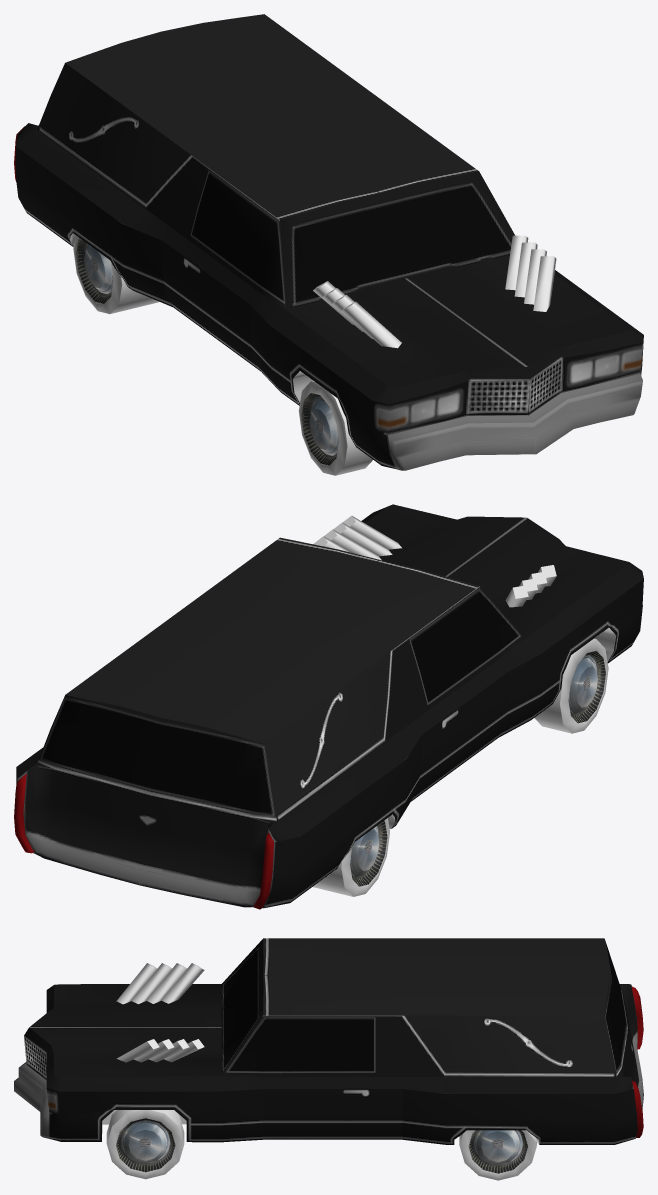
File: Hearse.fbx
3 views of the same model, one above another, from view 1: azimuth 30°, elevation 25°; view 2: azimuth 150°, elevation 25°; view 3: azimuth 270°, elevation 25° (orthographic). The views are drawn at different scales.
Visible parts, largest first — view 1: model_0, model_3, model_1, model_2; view 2: model_0, model_1, model_2, model_3; view 3: model_0, model_1, model_3, model_2.
Boxes of the visible parts, x1,y1,x2,y2 form: model_0: [14, 14, 643, 470]; model_3: [313, 235, 556, 348]; model_1: [76, 238, 338, 465]; model_2: [73, 235, 372, 475]; model_0: [14, 504, 643, 909]; model_1: [350, 651, 605, 886]; model_2: [313, 638, 608, 896]; model_3: [313, 515, 556, 607]; model_0: [14, 938, 643, 1144]; model_1: [116, 1118, 527, 1173]; model_3: [116, 963, 204, 1062]; model_2: [106, 1110, 536, 1180].
Bounding box in the file's own units: 258 × 169 × 623.
